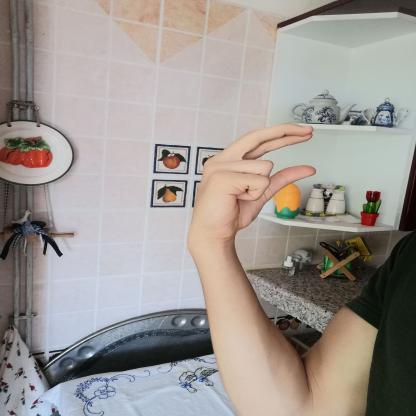DHELL: (183, 115, 329, 245)
